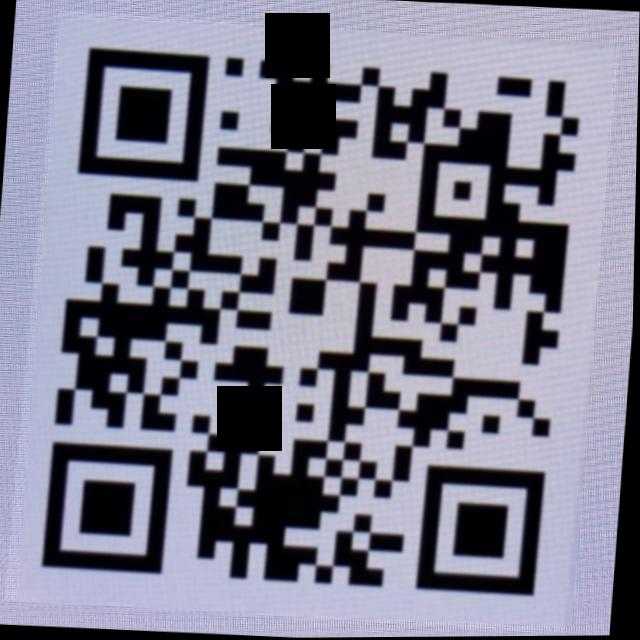QR_CODE: (19, 14, 617, 631)
